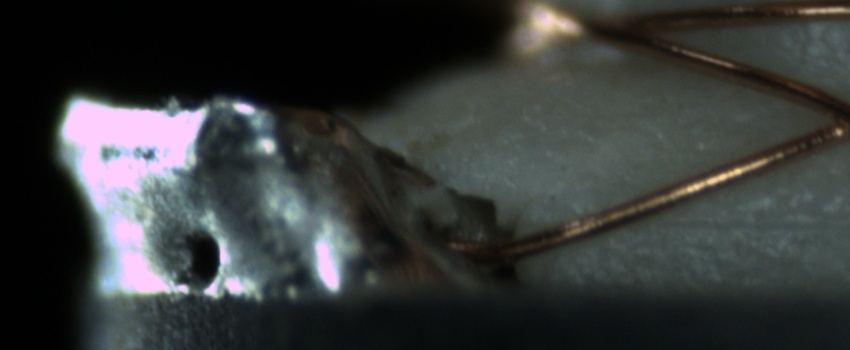CL: (800, 82, 849, 149)
DL: (610, 191, 850, 255)
